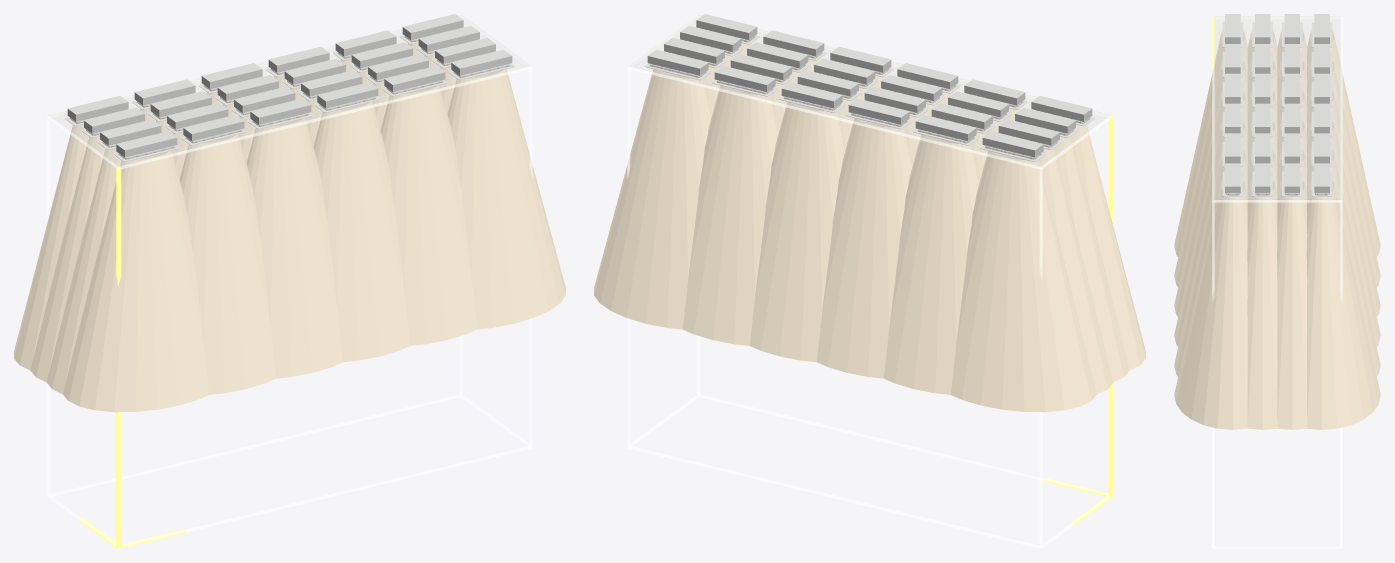
The model's file is isik_etna12.glb.
The picture shows the model from 3 angles, left to right: view 1: azimuth 30°, elevation 25°; view 2: azimuth 150°, elevation 25°; view 3: azimuth 270°, elevation 25°; orthographic projection. The views are drawn at different scales.
Visible parts, largest first — view 1: ar_ar_huzme, ETNA_12_beyaz (×24), ar_hayalet, hayalet_tavan, ar_isaret_altin; view 2: ar_ar_huzme, ETNA_12_beyaz (×24), ar_hayalet, hayalet_tavan, ar_isaret_altin; view 3: ar_ar_huzme, hayalet_tavan, ETNA_12_beyaz (×24), ar_hayalet.
Boxes of the visible parts, box(x1,y1,x2,y2) form: ar_ar_huzme: box(14, 43, 565, 412); ETNA_12_beyaz (×24): box(67, 14, 512, 157); ar_hayalet: box(47, 15, 532, 548); hayalet_tavan: box(49, 15, 530, 166); ar_isaret_altin: box(78, 167, 186, 548); ar_ar_huzme: box(594, 43, 1145, 412); ETNA_12_beyaz (×24): box(647, 14, 1092, 157); ar_hayalet: box(627, 15, 1112, 548); hayalet_tavan: box(629, 15, 1110, 166); ar_isaret_altin: box(1043, 116, 1113, 524); ar_ar_huzme: box(1174, 31, 1380, 429); hayalet_tavan: box(1214, 16, 1340, 199); ETNA_12_beyaz (×24): box(1225, 14, 1329, 192); ar_hayalet: box(1212, 16, 1342, 548).
Size of the model in its own units: 2.96 by 2.24 by 1.18.
Materials: 10 (1 with a texture image).
